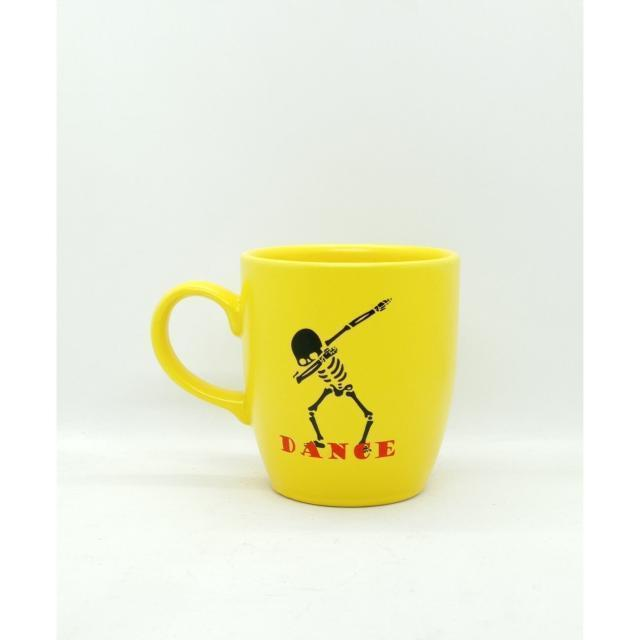taza: (152, 246, 462, 507)
